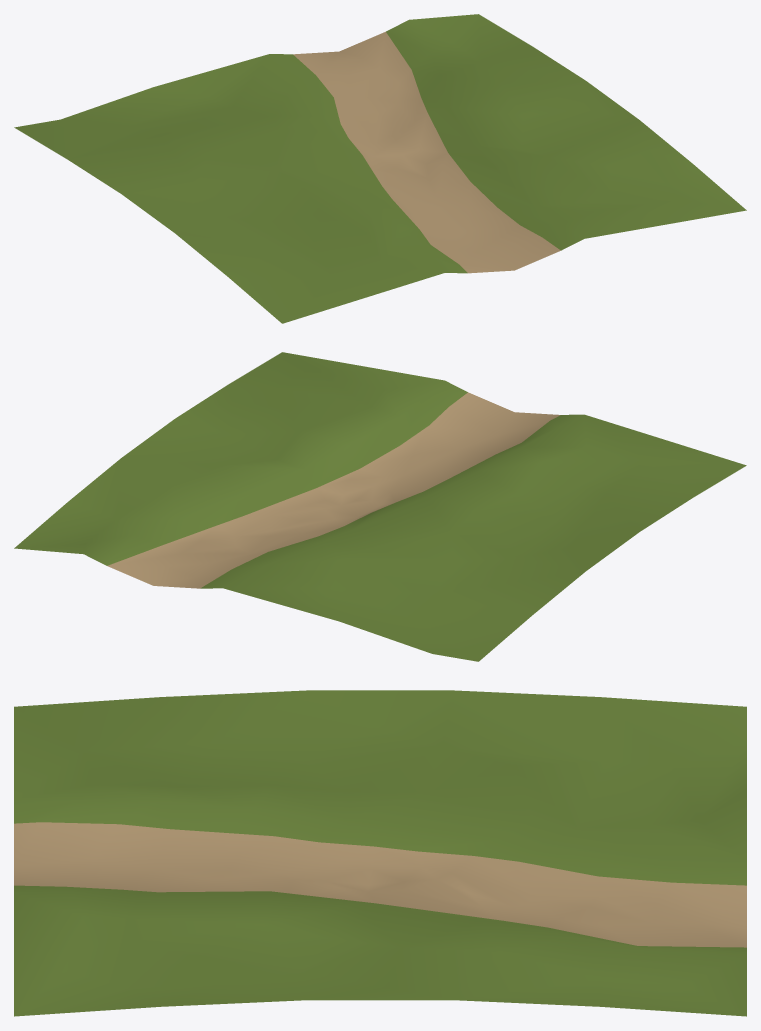
File: rpgpp_ag_terrain_path_03_10x10m.fbx
3 renders of one model, top to bottom at view 1: azimuth 30°, elevation 25°; view 2: azimuth 150°, elevation 25°; view 3: azimuth 270°, elevation 25°, orthographic. The views are drawn at different scales.
Parts seen in each view (by area): view 1: rpgpp_ag_terrain_path_03_10x10m; view 2: rpgpp_ag_terrain_path_03_10x10m; view 3: rpgpp_ag_terrain_path_03_10x10m.
Boxes of the visible parts, x1=… form: rpgpp_ag_terrain_path_03_10x10m: x1=14, y1=14, x2=746, y2=323; rpgpp_ag_terrain_path_03_10x10m: x1=14, y1=352, x2=746, y2=661; rpgpp_ag_terrain_path_03_10x10m: x1=14, y1=690, x2=746, y2=1016.
Bounding box in the file's own units: 10 × 0.3809 × 10.
